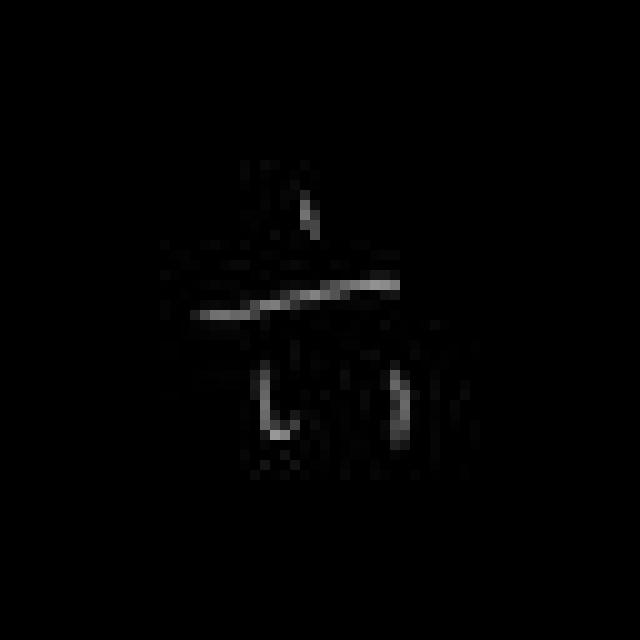6 -six-: (196, 192, 421, 454)
